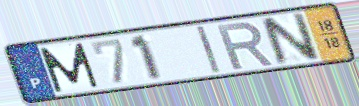1: (128, 33, 168, 82)
7: (87, 37, 127, 86)
I: (194, 24, 224, 75)
M: (37, 41, 102, 94)
N: (257, 10, 323, 68)
R: (214, 20, 276, 72)
